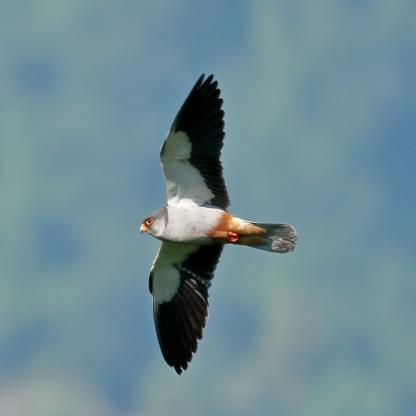Burung: (136, 69, 302, 364)
